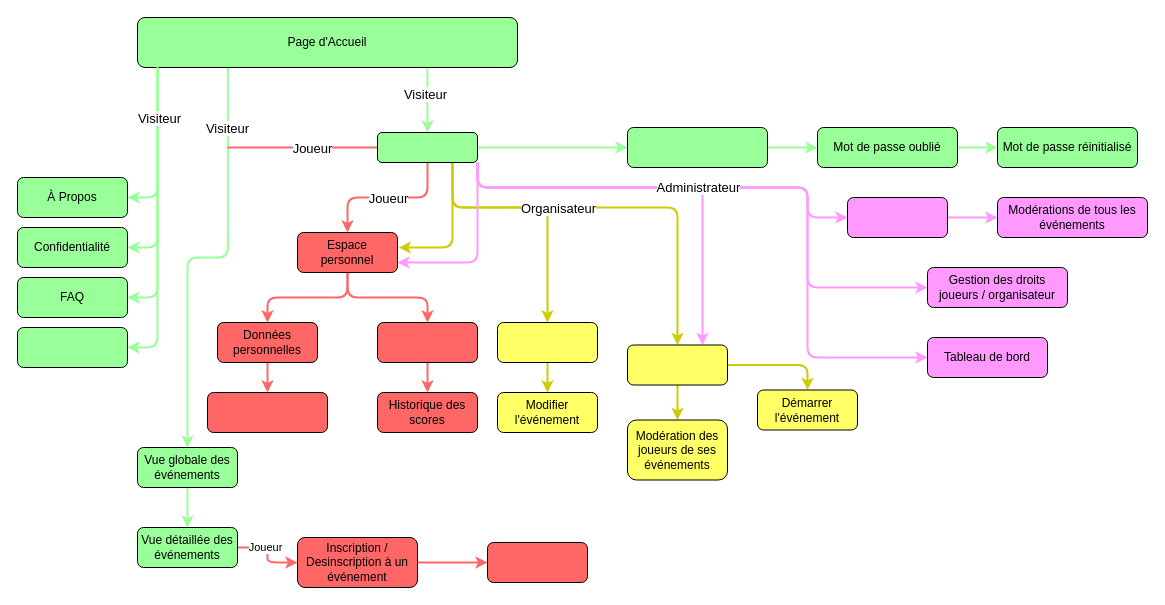
Image size: 1165x605. Some labels were removed from this diagram. The centre of each missing label's shape, as x and y in pixels:
Connexion: [427,147]
Contact: [72,347]
Créer un compte Utilisateur: [697,147]
Créer un événement: [547,342]
Gestion de ses événements: [677,364]
Gestion de tous les événements: [897,217]
Historique des événements: [427,342]
Modifier les données personnelles: [267,412]
Rejoindre l'événement: [537,562]
